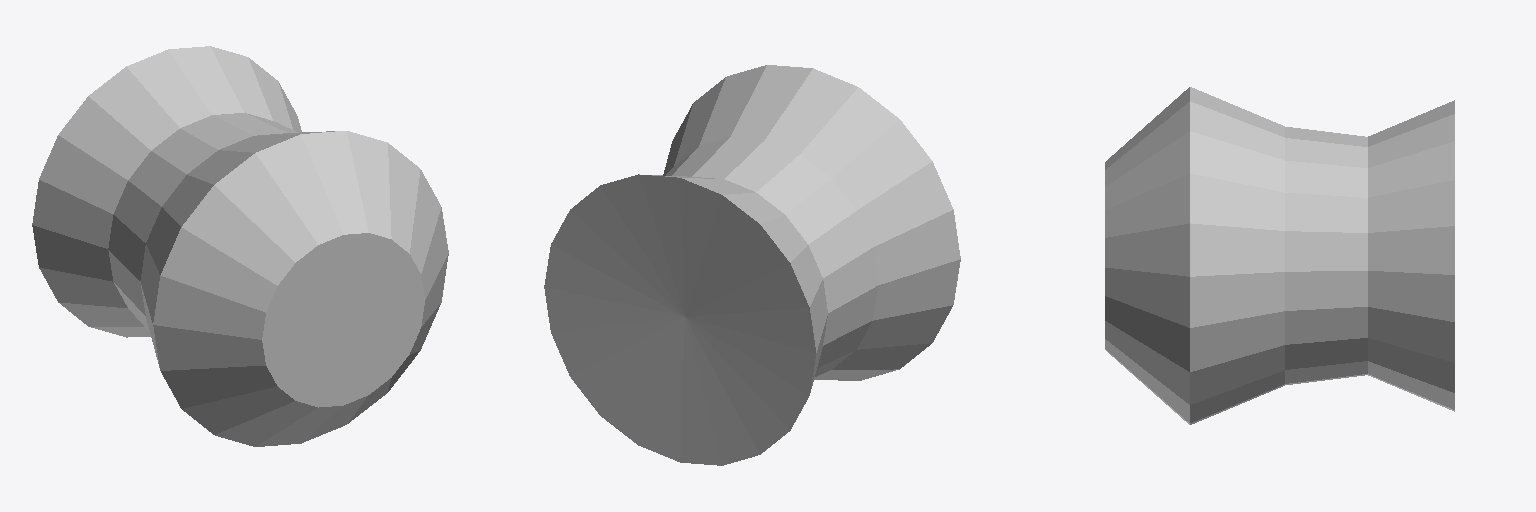
File: Bumper_BotRight.obj
3 renders of one model, left to right at view 1: azimuth 30°, elevation 25°; view 2: azimuth 150°, elevation 25°; view 3: azimuth 270°, elevation 25°, orthographic.
Parts seen in each view (by area): view 1: Bumper_BotLeft2; view 2: Bumper_BotLeft2; view 3: Bumper_BotLeft2.
Boxes of the visible parts, box(x1,y1,x2,y2) form: Bumper_BotLeft2: box(32, 46, 448, 446); Bumper_BotLeft2: box(544, 65, 960, 465); Bumper_BotLeft2: box(1105, 87, 1454, 424).
Size of the model in its own units: 0.166 by 0.166 by 0.1705.